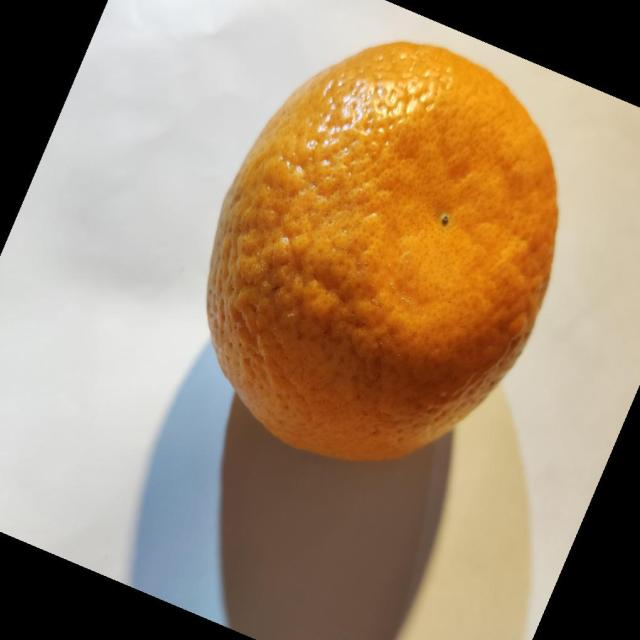fresh orange: (205, 39, 559, 462)
